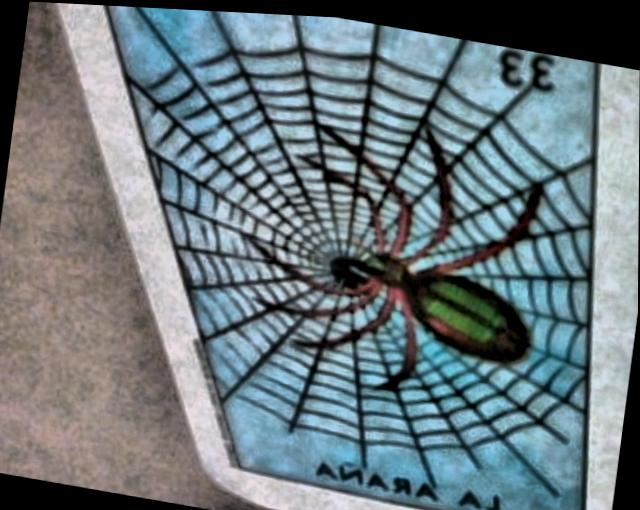La Botella: (105, 4, 596, 510)
